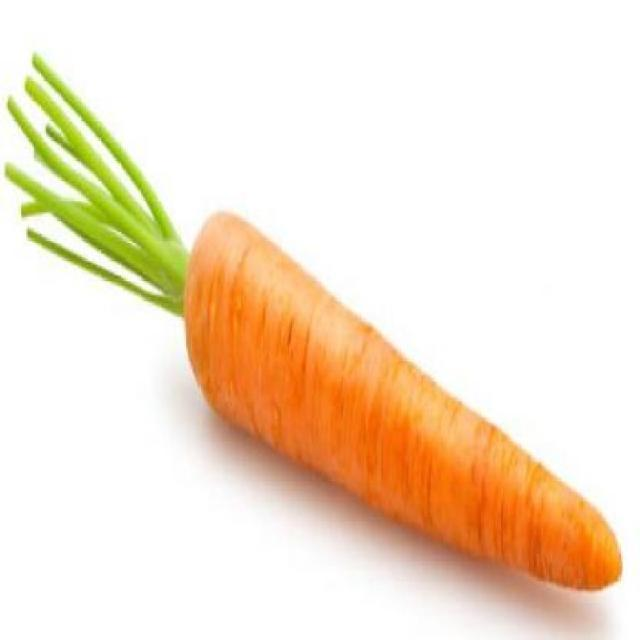carrot: (173, 198, 624, 608)
